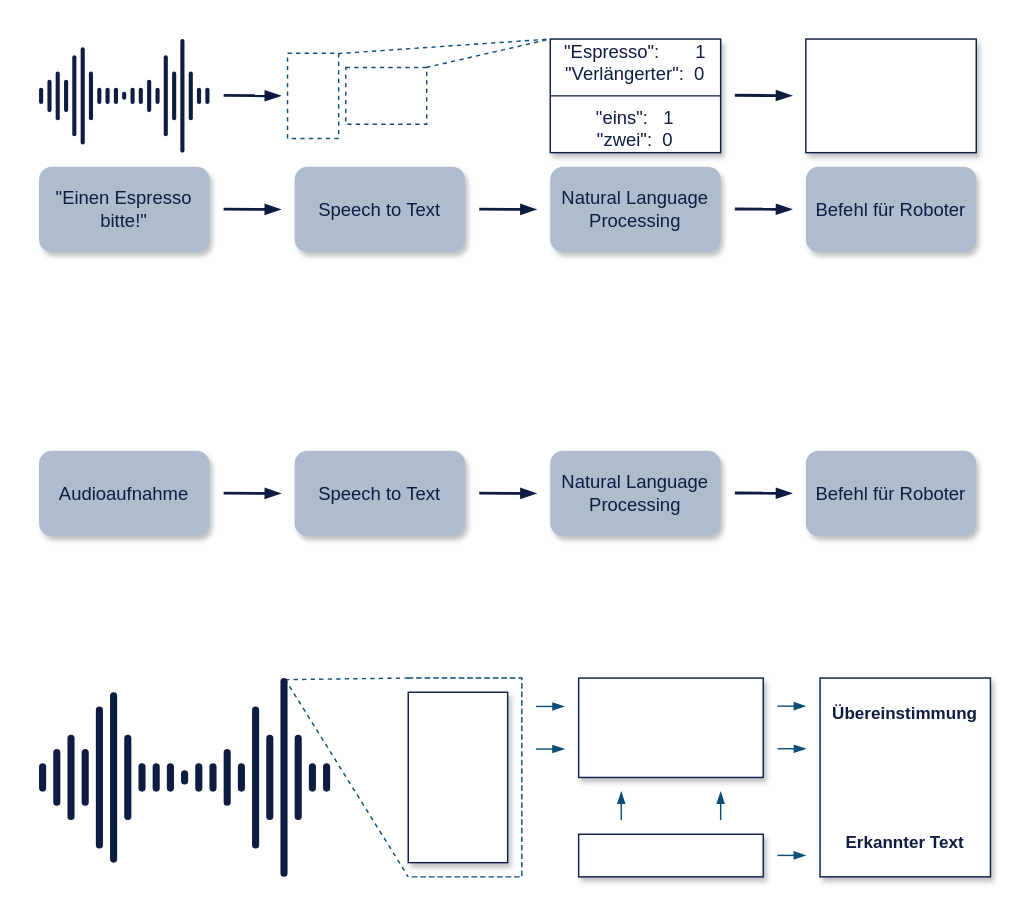
This 1028x914 diagram has some shape labels left out. The shapes that lost their labels are listed below. From the top down, each one's centre as x and y in pixels, then its label:
At point 385,95: "Einen Espresso bitte".
At point 892,97: "Kaffee: Espresso Menge: 1".
At point 672,729: "Akustisches Modell Sprachliches Modell Wörter & Laute Modell".
At point 458,779: "Feature 1 Feature 2 .... Feature n".
At point 672,857: "Wortkombinationen".
